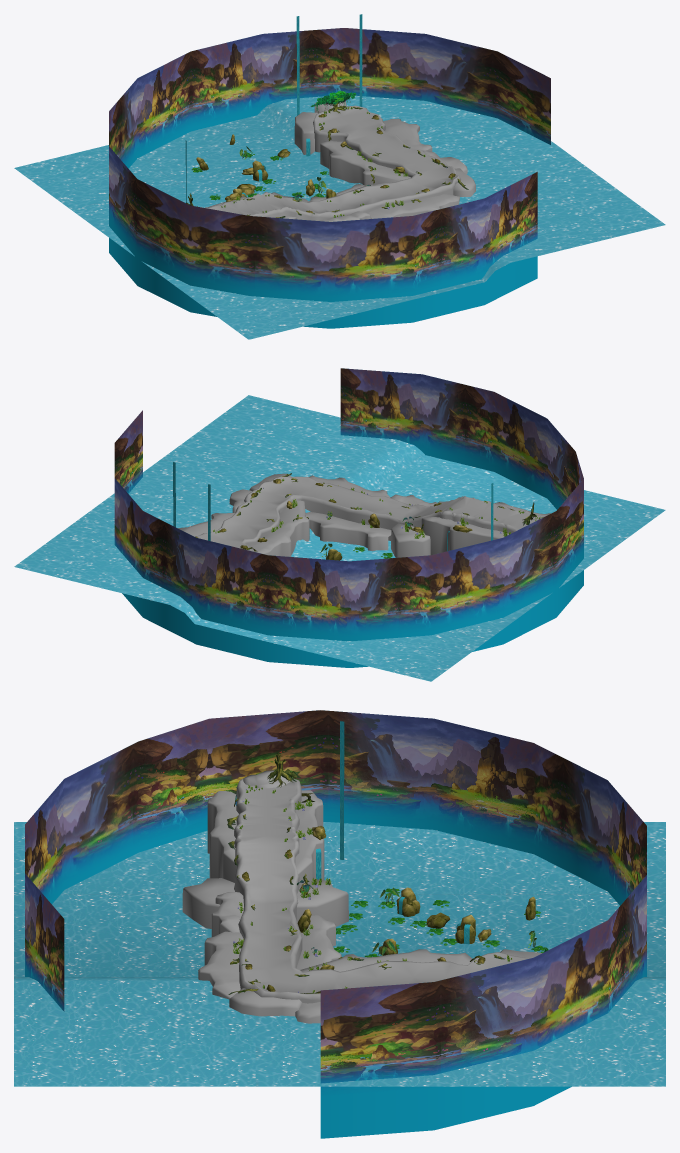
File: zws_map.FBX
The picture shows the model from 3 angles, top to bottom: view 1: azimuth 30°, elevation 25°; view 2: azimuth 150°, elevation 25°; view 3: azimuth 270°, elevation 25°; orthographic projection. The views are drawn at different scales.
Visible parts, largest first — view 1: zws_bj, zws_ls, zws_dimian, zws_liushui, zws_shitou01, zws_shu, zws_shugen; view 2: zws_bj, zws_ls, zws_dimian, zws_liushui; view 3: zws_bj, zws_ls, zws_dimian, zws_shitou01, zws_heye01, zws_liushui, zws_shugen.
Part boxes in pixels (x1,y1,x2,y2): zws_bj: [109, 28, 550, 328]; zws_ls: [14, 95, 665, 339]; zws_dimian: [205, 101, 475, 221]; zws_liushui: [185, 14, 362, 202]; zws_shitou01: [196, 157, 315, 197]; zws_shu: [310, 90, 356, 113]; zws_shugen: [246, 106, 468, 218]; zws_bj: [114, 368, 583, 667]; zws_ls: [14, 395, 665, 681]; zws_dimian: [178, 473, 550, 557]; zws_liushui: [173, 462, 493, 540]; zws_bj: [25, 710, 646, 1138]; zws_ls: [14, 822, 665, 1086]; zws_dimian: [182, 770, 541, 1023]; zws_shitou01: [378, 887, 535, 955]; zws_heye01: [334, 888, 548, 957]; zws_liushui: [316, 721, 579, 944]; zws_shugen: [227, 793, 504, 994].
Bounding box in the file's own units: 18782 × 6198 × 18260.
